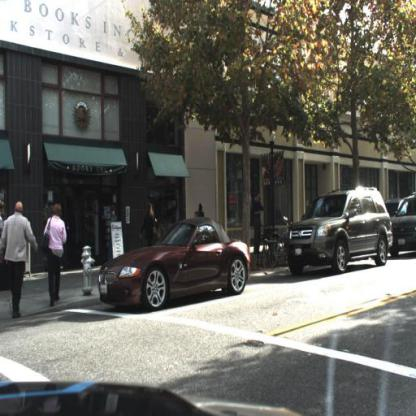car: (94, 216, 253, 317), (283, 185, 397, 276), (388, 187, 416, 263), (397, 194, 416, 260), (382, 191, 408, 225)
pedestrian: (2, 201, 40, 322), (46, 202, 66, 307), (250, 193, 266, 257), (141, 201, 161, 241), (196, 200, 207, 221)
